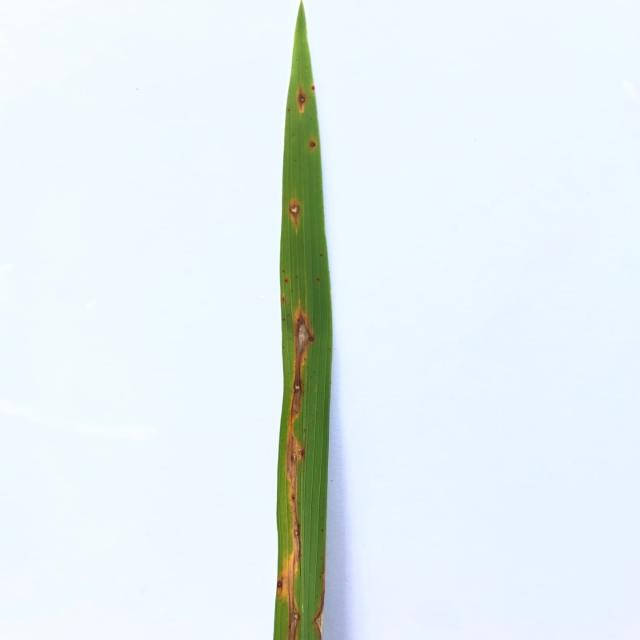leaf blast: (290, 303, 315, 420), (286, 432, 303, 495), (288, 600, 302, 640), (312, 596, 324, 640), (290, 198, 301, 231), (297, 88, 307, 116), (292, 523, 302, 540)
